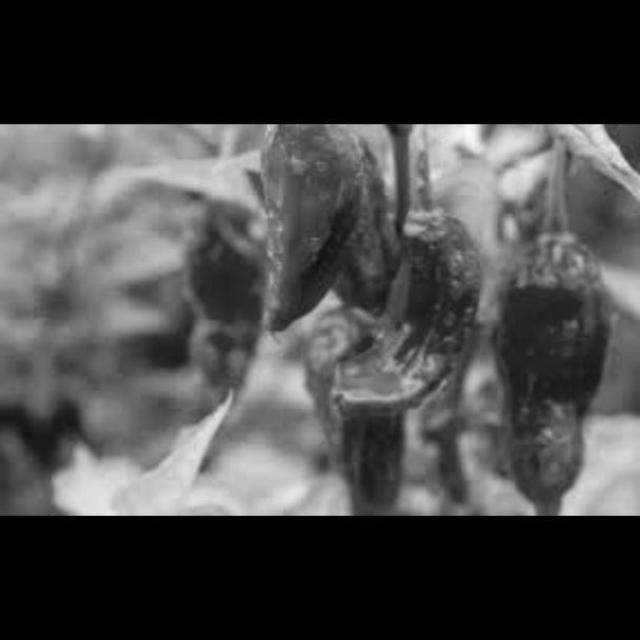ot cay: (485, 135, 624, 513), (318, 144, 494, 435), (240, 123, 384, 344), (176, 184, 276, 428), (1, 363, 98, 462)
